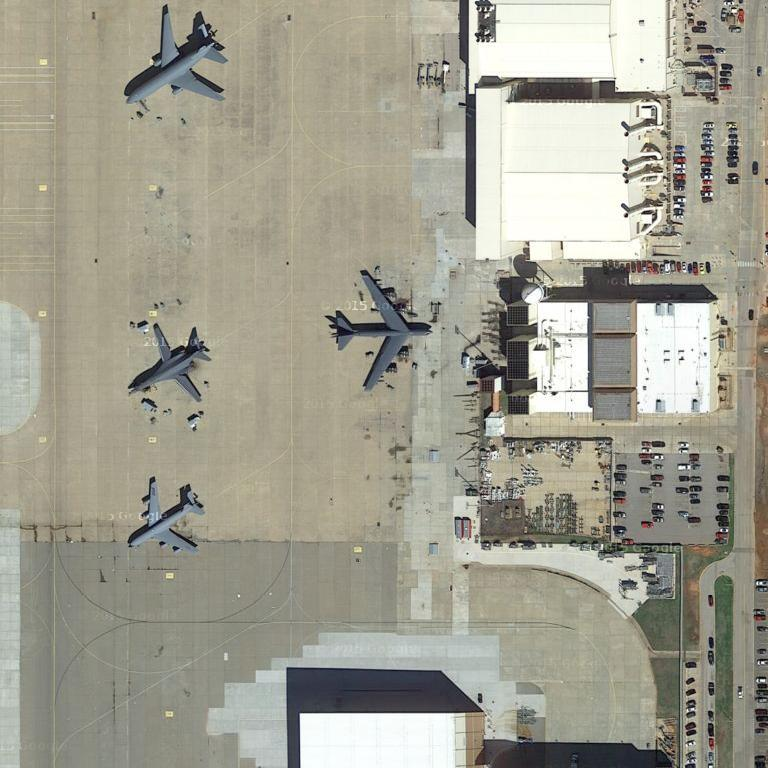B-1B: (125, 316, 216, 408)
B-52: (324, 268, 435, 396)
KC-10: (124, 8, 231, 114)
KC-135: (123, 475, 207, 554)
